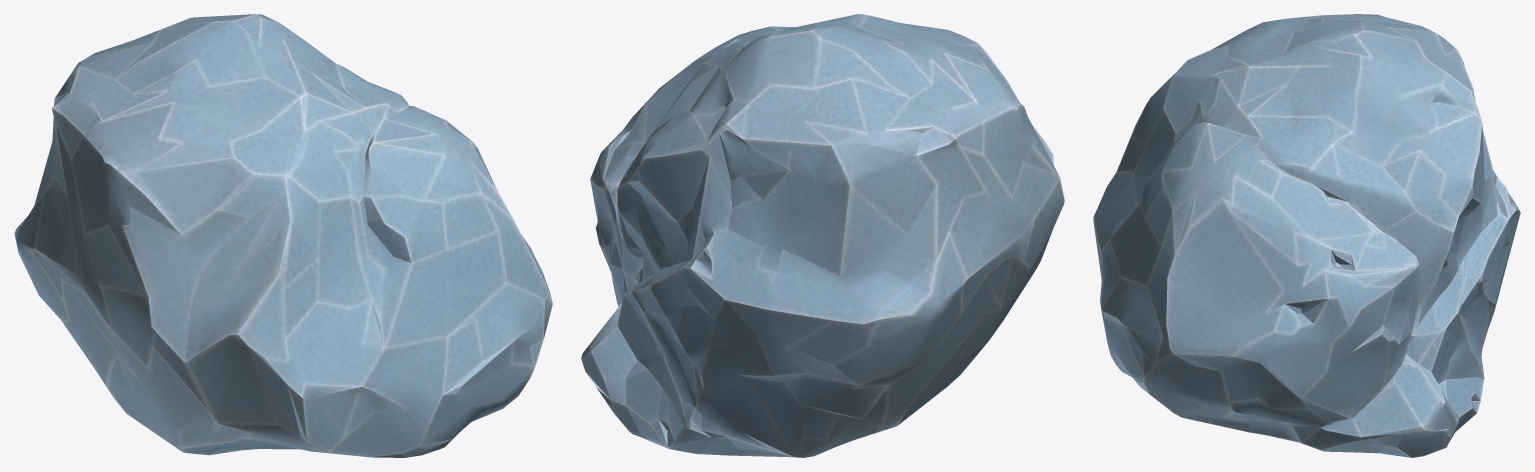
File: ice_boulder.glb
The picture shows the model from 3 angles, left to right: view 1: azimuth 30°, elevation 25°; view 2: azimuth 150°, elevation 25°; view 3: azimuth 270°, elevation 25°; orthographic projection. The views are drawn at different scales.
Parts seen in each view (by area): view 1: Mesh_0; view 2: Mesh_0; view 3: Mesh_0.
Boxes of the visible parts, x1,y1,x2,y2 form: Mesh_0: [14, 14, 552, 457]; Mesh_0: [581, 14, 1064, 457]; Mesh_0: [1093, 14, 1520, 457].
Size of the model in its own units: 1.9 by 1.79 by 1.88.
1 material, 1 textured.
